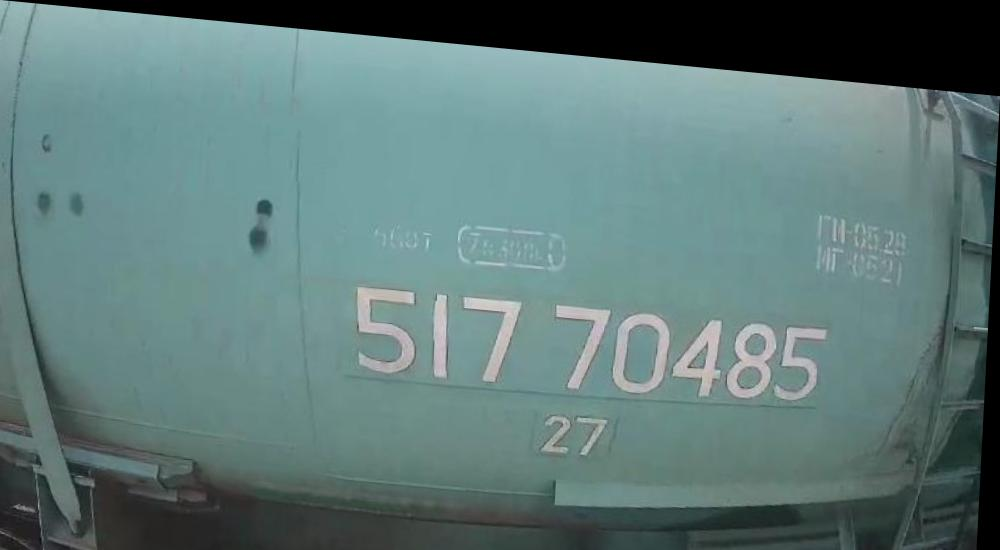Wagon-number: (353, 274, 838, 406)
